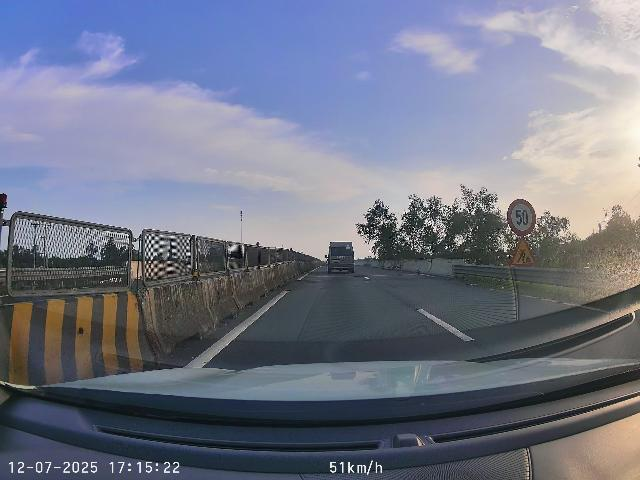127-toc-do-toi-da-50: (507, 199, 536, 236)
227-cong-truong: (510, 237, 537, 266)
